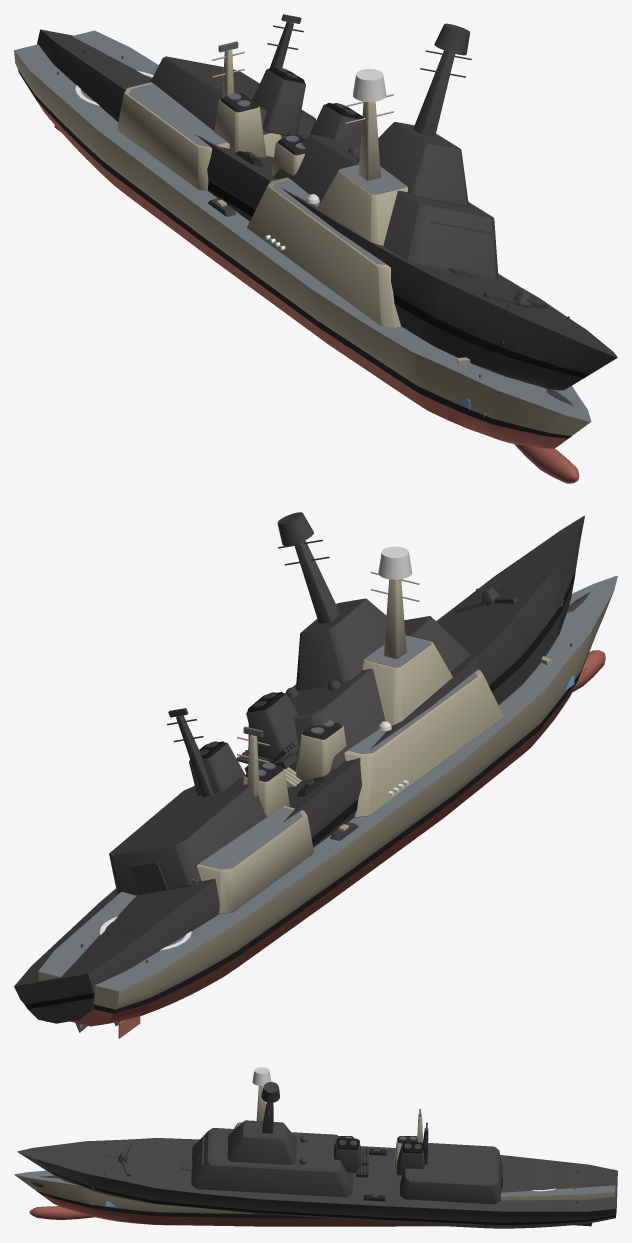
Rendered from asFrigate__fremm_tahya_misr.glb.
The picture shows the model from 3 angles, top to bottom: view 1: azimuth 30°, elevation 25°; view 2: azimuth 150°, elevation 25°; view 3: azimuth 270°, elevation 25°; orthographic projection. The views are drawn at different scales.
Parts seen in each view (by area): view 1: Hull_Mesh, Wreck; view 2: Hull_Mesh, Wreck; view 3: Wreck, Hull_Mesh.
Part boxes in pixels (x1,y1,x2,y2): Hull_Mesh: (14,30,591,483); Wreck: (37,14,617,405); Hull_Mesh: (38,546,617,1038); Wreck: (14,512,589,1032); Wreck: (17,1082,617,1228); Hull_Mesh: (14,1067,615,1226).
Size of what is drawn, in the model's own units: 27.31 by 44.09 by 149.
